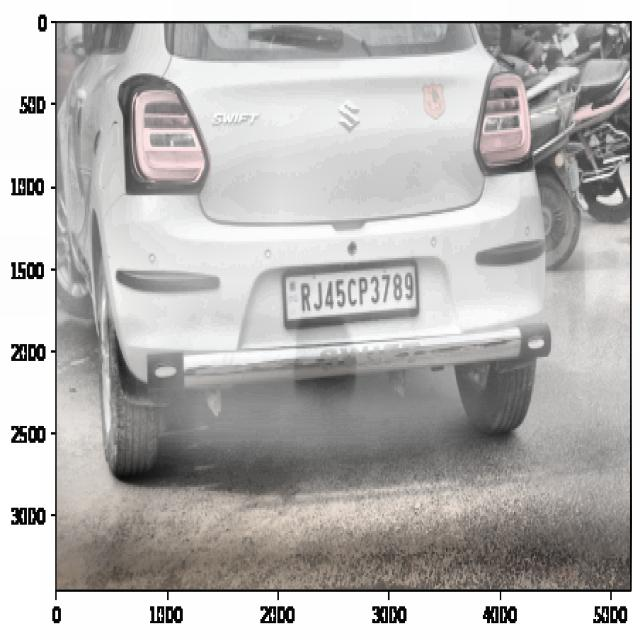license_plate: (296, 266, 418, 318)
